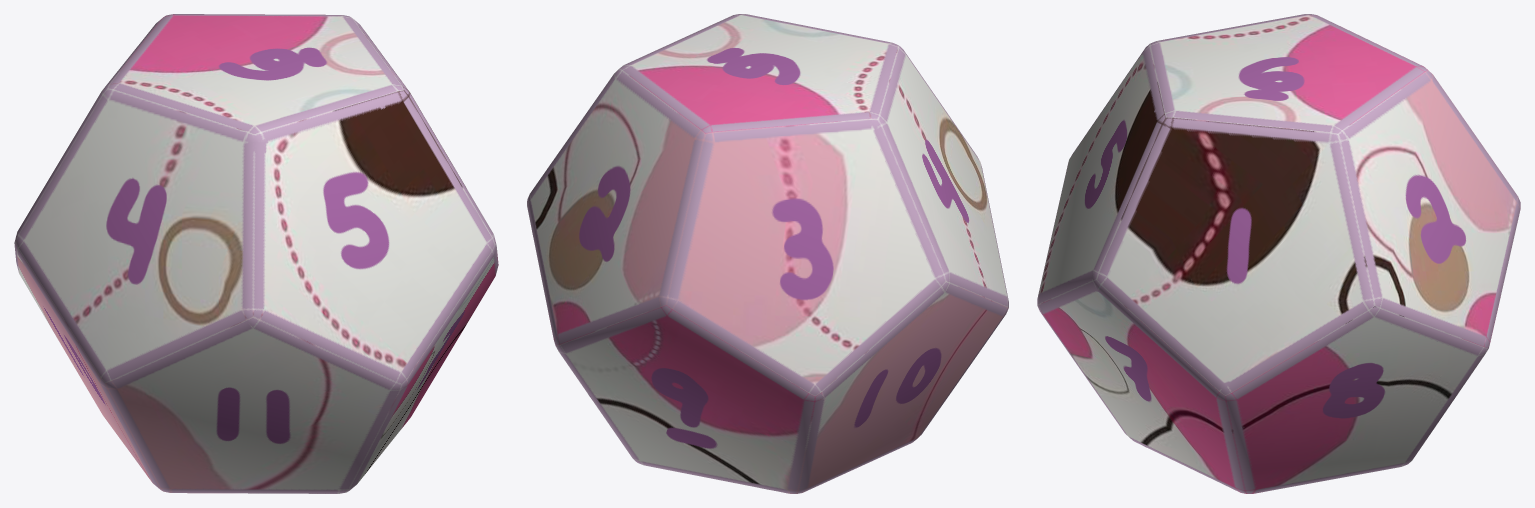
The model's file is Quinns_D12.glb.
3 renders of one model, left to right at view 1: azimuth 30°, elevation 25°; view 2: azimuth 150°, elevation 25°; view 3: azimuth 270°, elevation 25°, orthographic. The views are drawn at different scales.
Visible parts, largest first — view 1: d12_geo; view 2: d12_geo; view 3: d12_geo.
Part boxes in pixels (x1=…): d12_geo: x1=14, y1=14, x2=498, y2=493; d12_geo: x1=527, y1=14, x2=1008, y2=493; d12_geo: x1=1037, y1=14, x2=1520, y2=493.
Size of the model in its own units: 1.88 by 1.59 by 1.91.
Materials: 1 (1 with a texture image).
